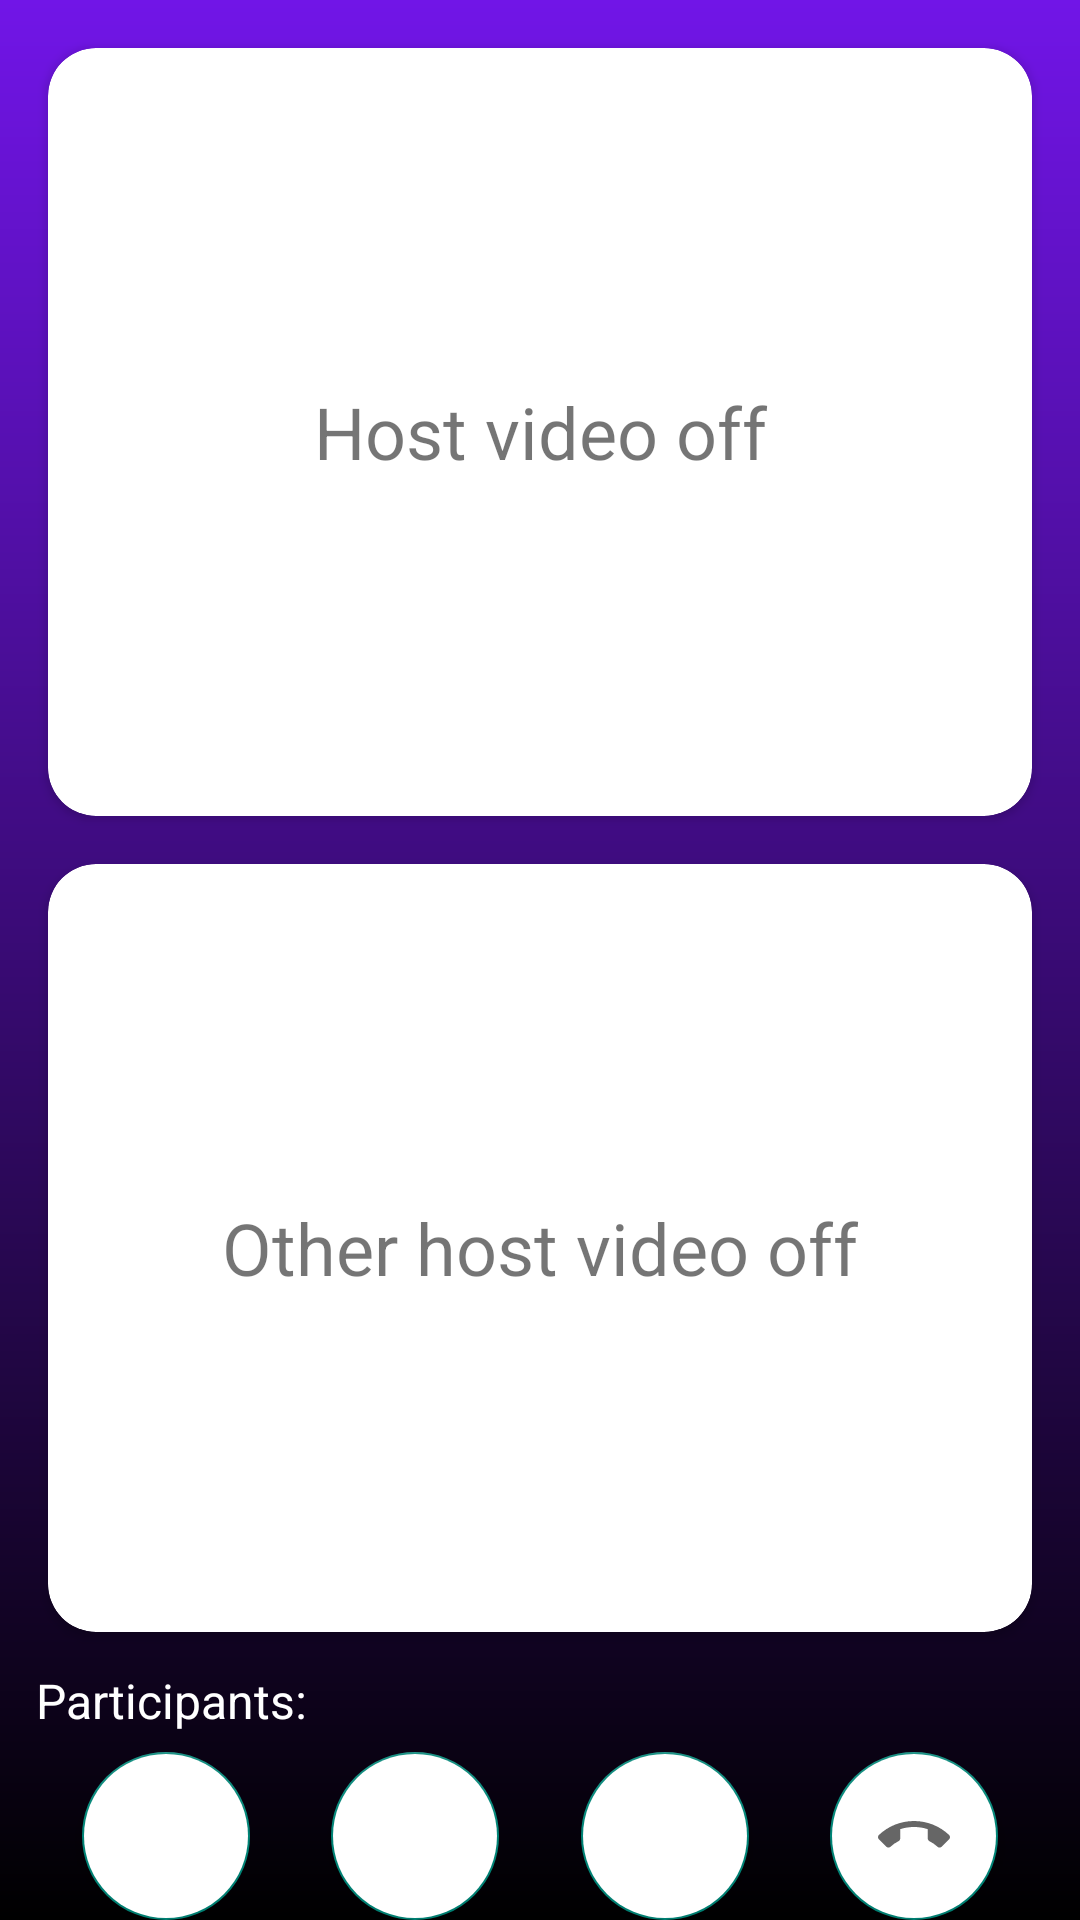

Icons on this 1080×1920 Android screen, each with its box as box=[x1, y1, x2, y2]:
End podcast: box=[830, 1752, 998, 1920]
